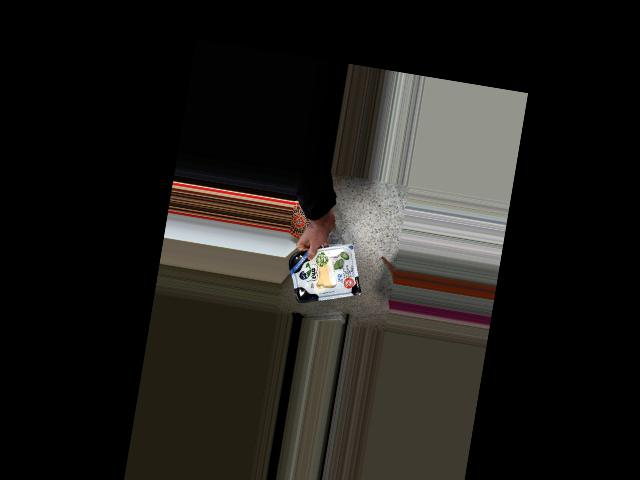cheese: (290, 245, 358, 301)
